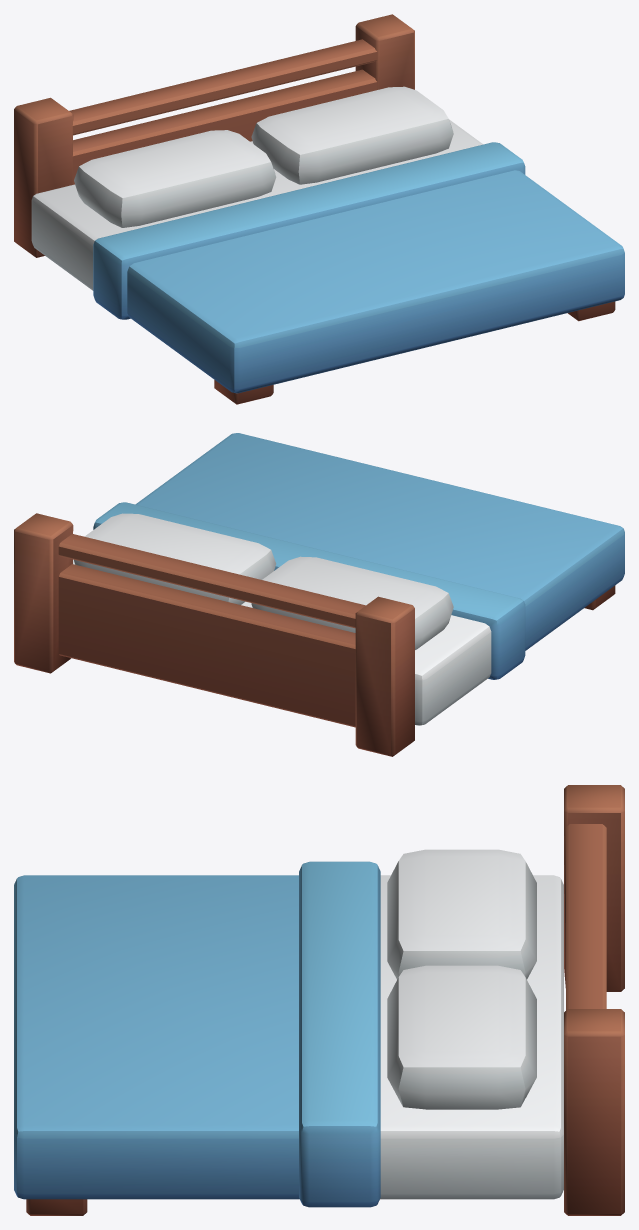
Rendered from bed-double.glb.
3 views of the same model, one above another, from view 1: azimuth 30°, elevation 25°; view 2: azimuth 150°, elevation 25°; view 3: azimuth 270°, elevation 25° (orthographic). The views are drawn at different scales.
Visible parts, largest first — view 1: bed_double_A; view 2: bed_double_A; view 3: bed_double_A.
Boxes of the visible parts, x1,y1,x2,y2 form: bed_double_A: (14, 14, 624, 404); bed_double_A: (14, 433, 624, 756); bed_double_A: (14, 785, 624, 1215).
Size of the model in its own units: 2.05 by 0.6612 by 1.98.
1 material, 1 textured.
